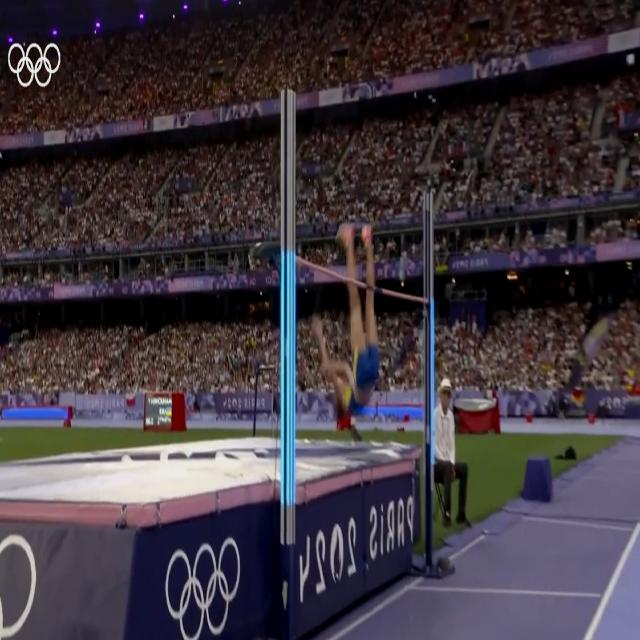land: (311, 221, 381, 419)
